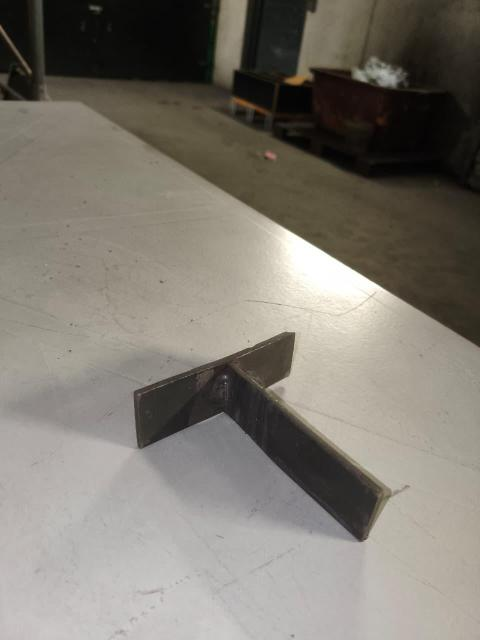Metal: (130, 328, 392, 542)
